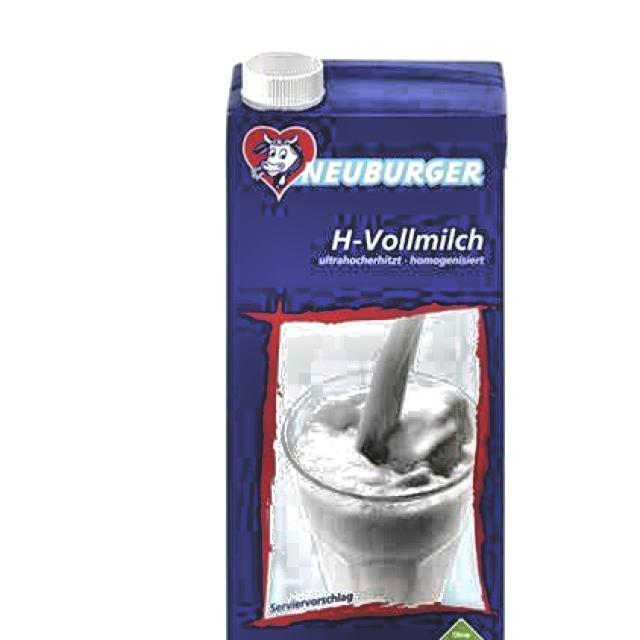cardboard: (222, 51, 506, 640)
